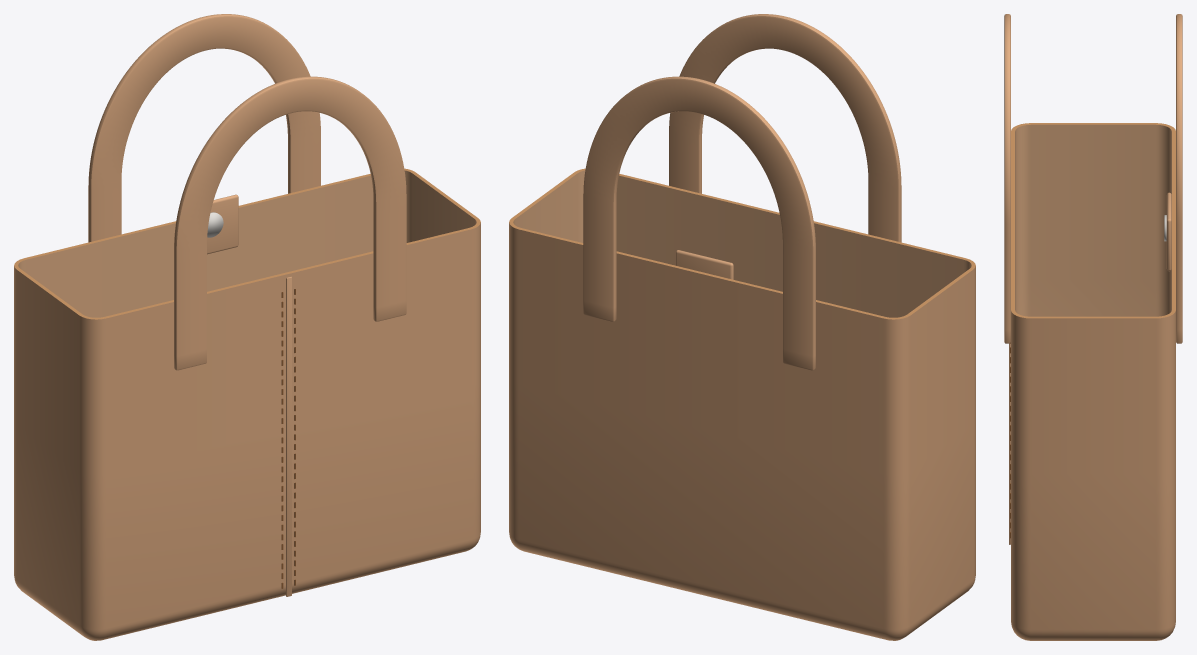
The model's file is m_mupzn5a5hbpy.glb.
The picture shows the model from 3 angles, left to right: view 1: azimuth 30°, elevation 25°; view 2: azimuth 150°, elevation 25°; view 3: azimuth 270°, elevation 25°; orthographic projection.
Parts seen in each view (by area): view 1: Body, HandleFront, HandleBack, Seam, ClosureTab, Stitches; view 2: Body, HandleBack, HandleFront, ClosureTab; view 3: Body, HandleBack, HandleFront, ClosureTab, Seam.
Part boxes in pixels (x1,y1,x2,y2): Body: (14,168,480,640); HandleFront: (174,76,406,370); HandleBack: (88,14,320,242); Seam: (286,276,291,596); ClosureTab: (207,194,238,254); Stitches: (281,289,295,588); Body: (509,168,975,640); HandleBack: (583,76,815,370); HandleFront: (669,14,901,242); ClosureTab: (676,250,733,279); Body: (1011,123,1175,640); HandleBack: (1176,14,1182,343); HandleFront: (1004,14,1010,343); ClosureTab: (1166,192,1171,271); Seam: (1009,343,1010,544).
Bounding box in the file's own units: 0.28 × 0.351 × 0.108.
